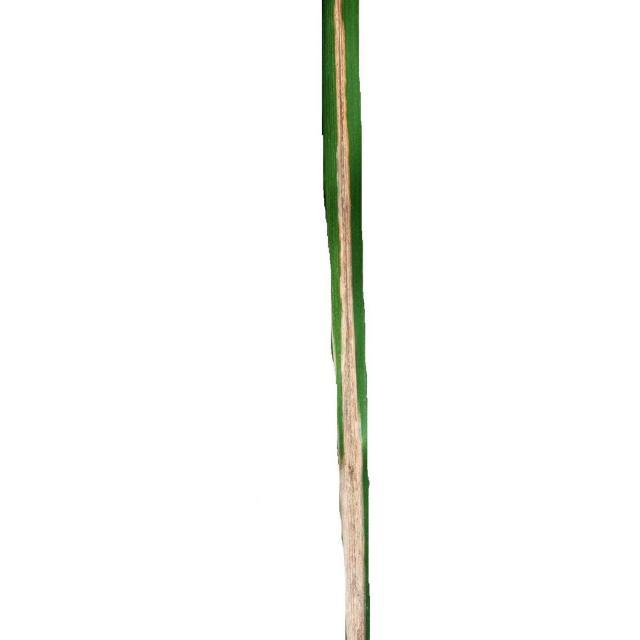leaf blight: (318, 1, 387, 640)
